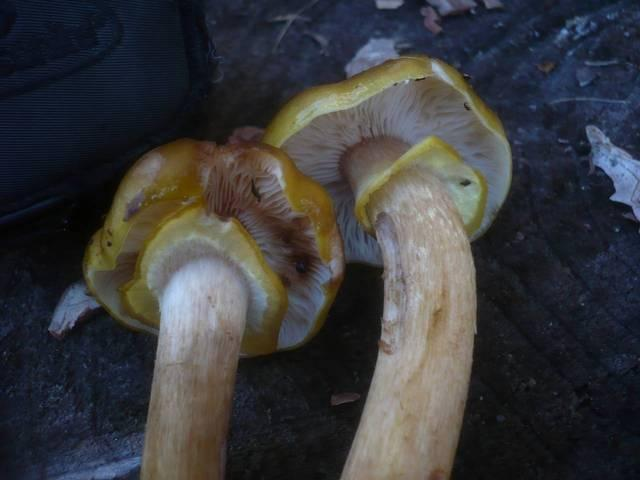Edible Mushroom: (259, 53, 513, 479), (69, 131, 346, 479)
